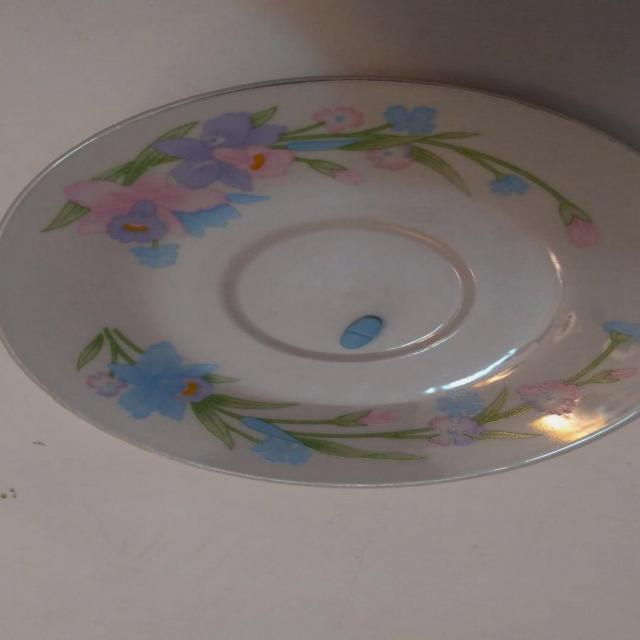pill: (338, 314, 386, 348)
